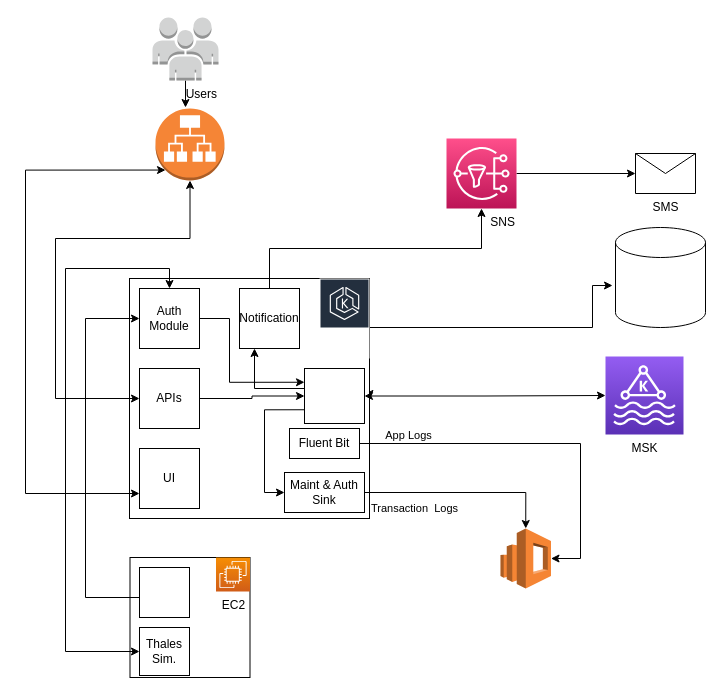
Image size: 723x695. Some labels were removed from this diagram. The shapes that lost their labels are listed below. From the top down, each one's centre as x and y in pixels, then its label:
At point (189, 144): "Load Balancer".
At point (660, 277): "MongoDB Atlas".
At point (344, 318): "Amazon EKS".
At point (334, 396): "Event Engine".
At point (525, 558): "OpenSearch".
At point (164, 592): "VTS".
